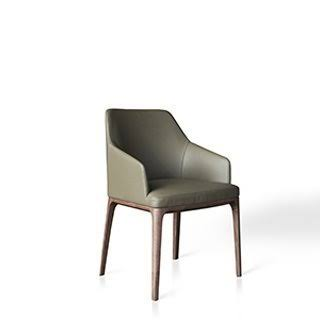chair: (95, 104, 246, 302)
